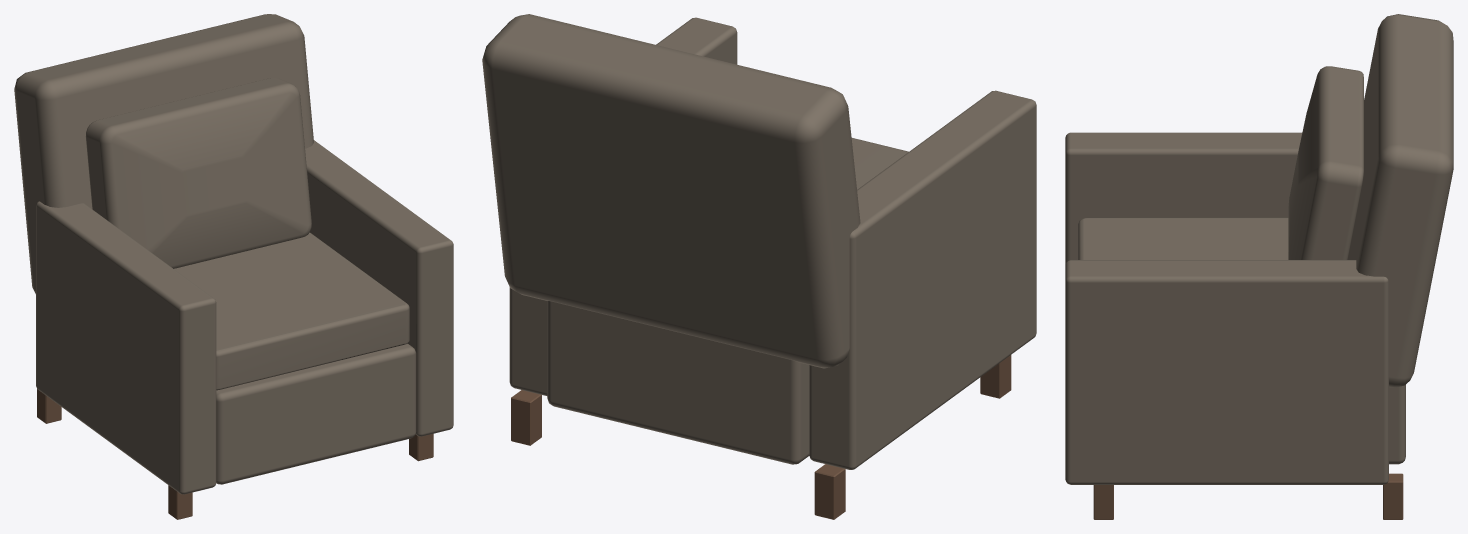
The model's file is worn-armchair-1d4a924fcad6.glb.
3 renders of one model, left to right at view 1: azimuth 30°, elevation 25°; view 2: azimuth 150°, elevation 25°; view 3: azimuth 270°, elevation 25°, orthographic. The views are drawn at different scales.
Visible parts, largest first — view 1: cover-cloth, wood; view 2: cover-cloth, wood; view 3: cover-cloth, wood.
Part boxes in pixels (<box>): cover-cloth: <box>14,14,453,494</box>; wood: <box>37,389,433,519</box>; cover-cloth: <box>482,14,1036,469</box>; wood: <box>511,355,1011,519</box>; cover-cloth: <box>1065,14,1453,484</box>; wood: <box>1093,473,1403,519</box>.
Size of the model in its own units: 0.8205 by 0.9632 by 0.9125.
